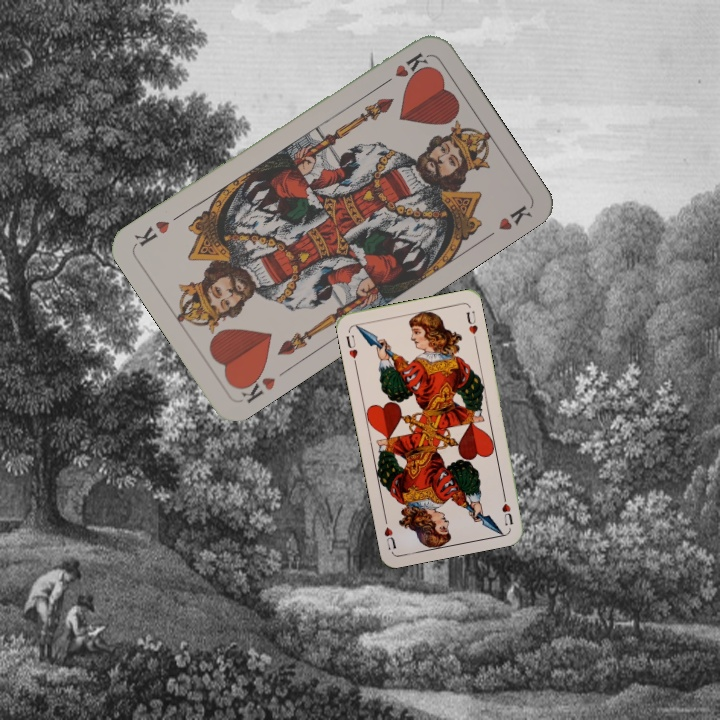HK: (376, 49, 431, 90), (232, 366, 278, 407)
HU: (498, 489, 515, 528), (342, 331, 360, 361)
